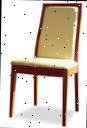Silla: (8, 1, 83, 127)
